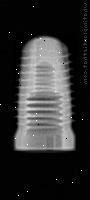Camlog: (13, 33, 77, 152)
